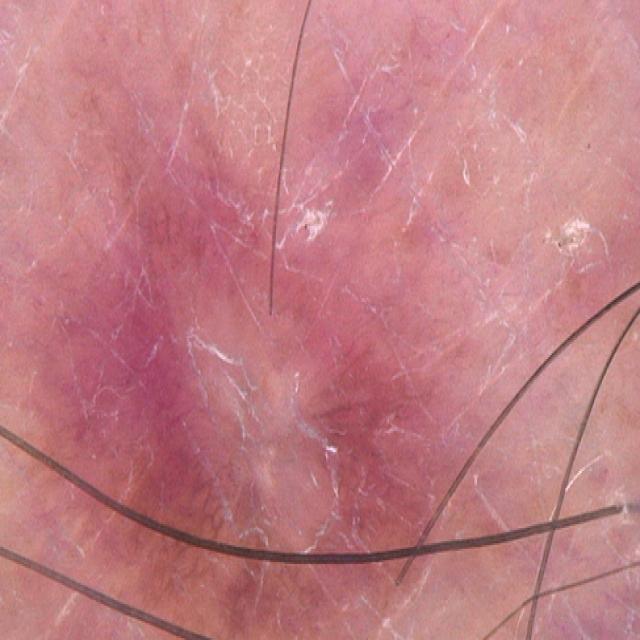Dermatofibroma: (0, 72, 619, 640)
